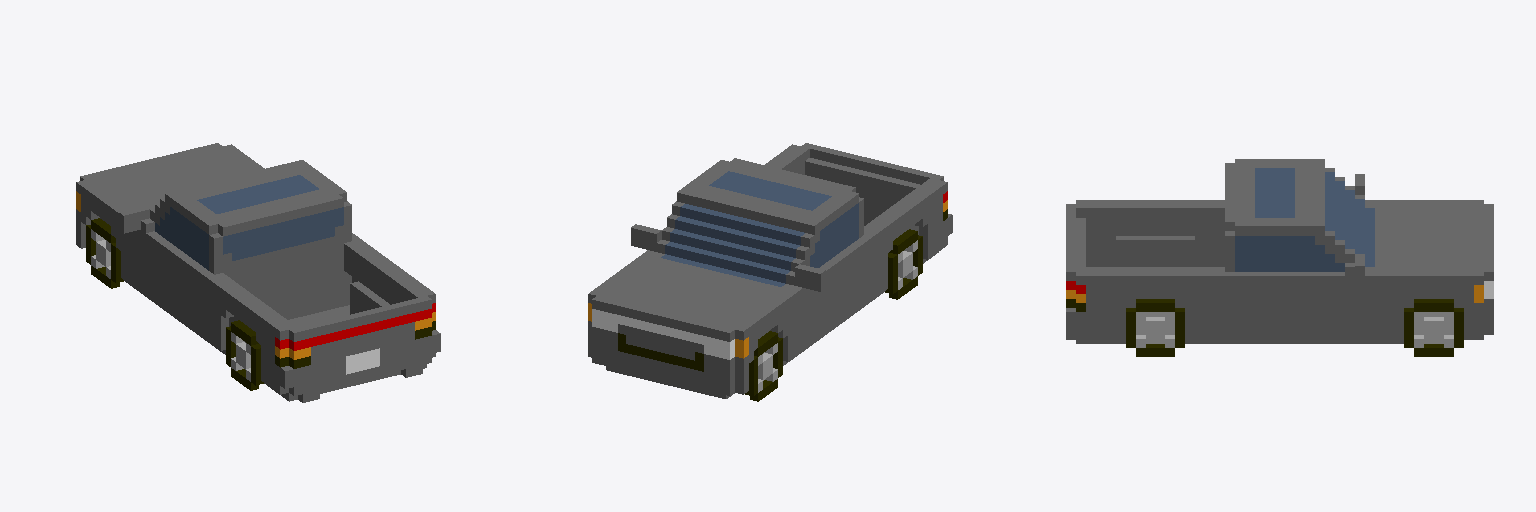
3 renders of one model, left to right at view 1: azimuth 30°, elevation 25°; view 2: azimuth 150°, elevation 25°; view 3: azimuth 270°, elevation 25°, orthographic.
Visible parts, largest first — view 1: object 1; view 2: object 1; view 3: object 1.
Part boxes in pixels (x1,y1,x2,y2): object 1: (76, 143, 440, 402); object 1: (588, 143, 952, 401); object 1: (1066, 159, 1493, 356).
Bounding box in the file's own units: 2.2 × 1.4 × 4.3.
1 materials, 1 textured.